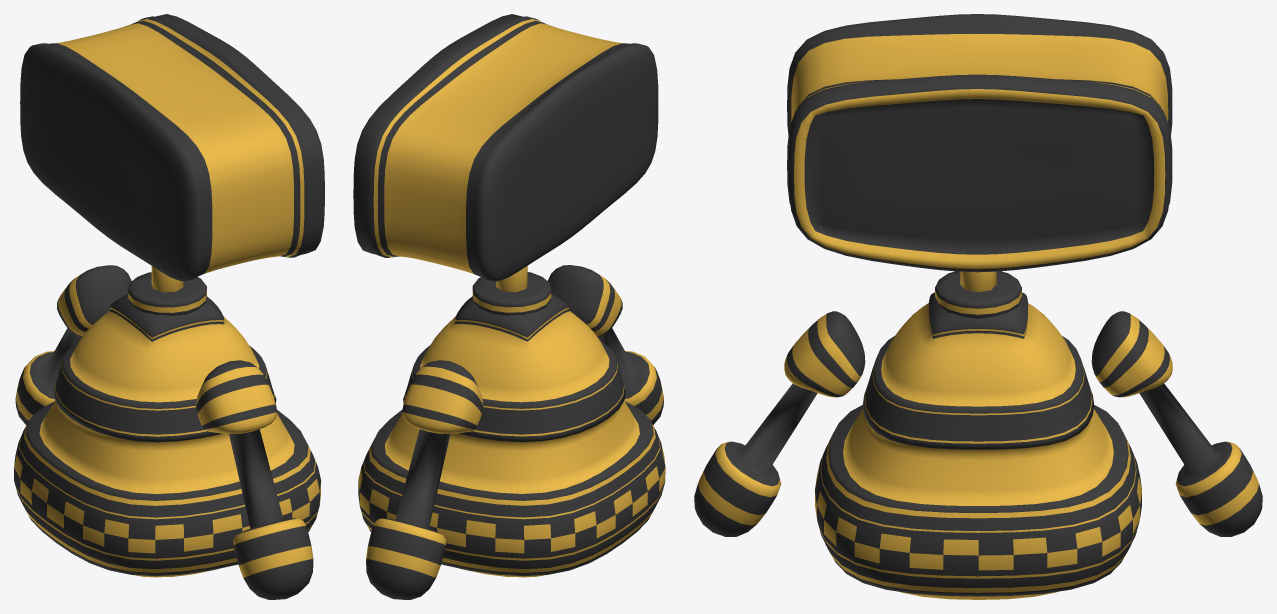
File: Robot3.fbx
3 renders of one model, left to right at view 1: azimuth 30°, elevation 25°; view 2: azimuth 150°, elevation 25°; view 3: azimuth 270°, elevation 25°, orthographic. The views are drawn at different scales.
Visible parts, largest first — view 1: Cube.006, Cube.007, Cube.008, Cylinder.001, Cylinder; view 2: Cube.006, Cube.007, Cube.008, Cylinder.001, Cylinder; view 3: Cube.006, Cube.007, Cube.008, Cylinder.001.
Part boxes in pixels (<box>): Cube.006: <box>20,14,324,281</box>; Cube.007: <box>14,294,321,577</box>; Cube.008: <box>15,265,313,599</box>; Cylinder.001: <box>128,272,206,315</box>; Cylinder: <box>151,266,183,292</box>; Cube.006: <box>353,14,658,281</box>; Cube.007: <box>358,294,665,577</box>; Cube.008: <box>366,265,663,599</box>; Cylinder.001: <box>472,272,551,315</box>; Cylinder: <box>496,266,527,292</box>; Cube.006: <box>787,14,1172,272</box>; Cube.007: <box>815,292,1141,599</box>; Cube.008: <box>694,311,1262,536</box>; Cylinder.001: <box>935,271,1021,318</box>.
Bounding box in the file's own units: 280 × 537 × 522.
